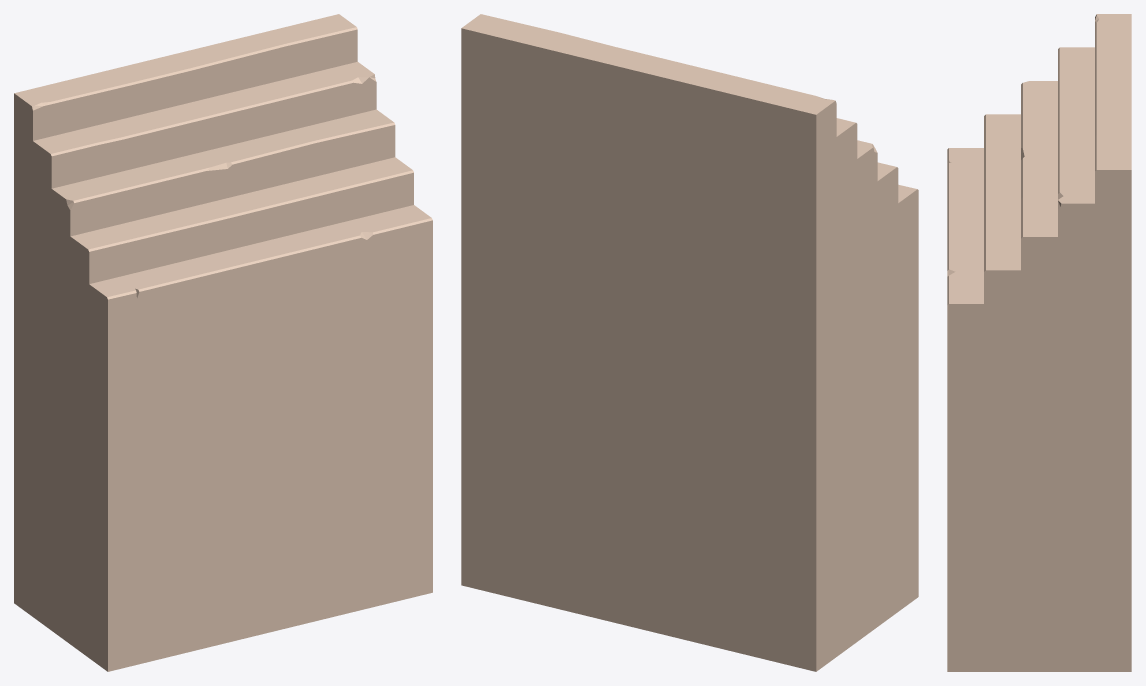
Rendered from greek_stairs_stone.fbx.
3 renders of one model, left to right at view 1: azimuth 30°, elevation 25°; view 2: azimuth 150°, elevation 25°; view 3: azimuth 270°, elevation 25°, orthographic. The views are drawn at different scales.
Visible parts, largest first — view 1: Cube.002; view 2: Cube.002; view 3: Cube.002.
Boxes of the visible parts, x1,y1,x2,y2 form: Cube.002: (14,14,432,671); Cube.002: (461,14,918,671); Cube.002: (947,14,1131,671).
Bounding box in the file's own units: 200 × 300 × 100.
